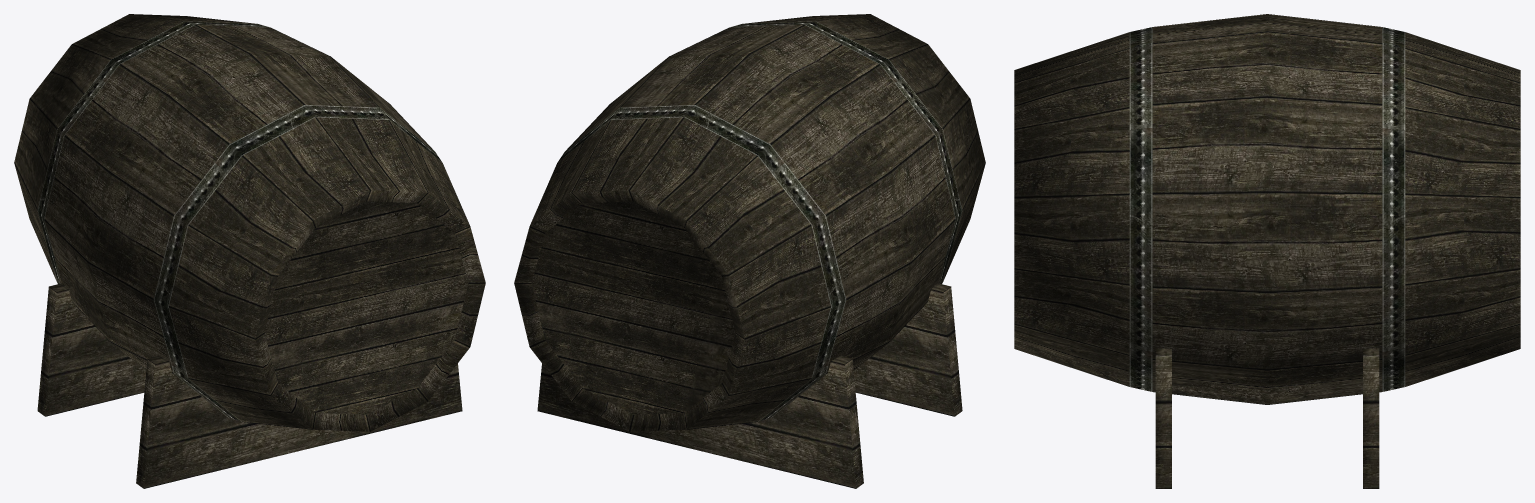
The model's file is KM_VOB_BARREL_01.glb.
3 views of the same model, side by side, from view 1: azimuth 30°, elevation 25°; view 2: azimuth 150°, elevation 25°; view 3: azimuth 270°, elevation 25° (orthographic). The views are drawn at different scales.
Visible parts, largest first — view 1: Mesh; view 2: Mesh; view 3: Mesh.
Part boxes in pixels (bbox=[...]): Mesh: bbox=[14, 14, 485, 488]; Mesh: bbox=[514, 14, 985, 488]; Mesh: bbox=[1014, 14, 1520, 488].
Size of the model in its own units: 2.5 by 2.64 by 3.23.
Materials: 2 (2 with a texture image).
